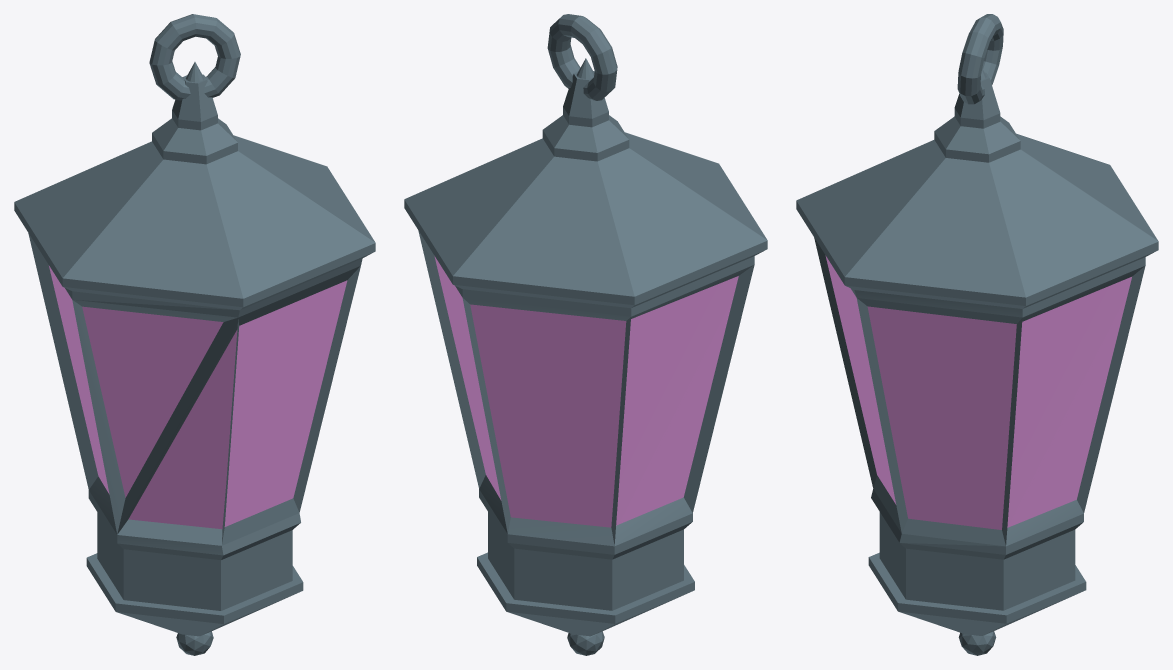
The picture shows the model from 3 angles, left to right: view 1: azimuth 30°, elevation 25°; view 2: azimuth 150°, elevation 25°; view 3: azimuth 270°, elevation 25°; orthographic projection.
Parts seen in each view (by area): view 1: node_MeshObject1001172416-PolyPaper16, node_MeshObject1519892480-PolyGem25; view 2: node_MeshObject1001172416-PolyPaper16, node_MeshObject1519892480-PolyGem25; view 3: node_MeshObject1001172416-PolyPaper16, node_MeshObject1519892480-PolyGem25.
Part boxes in pixels (x1,y1,x2,y2): node_MeshObject1001172416-PolyPaper16: (14, 14, 375, 655); node_MeshObject1519892480-PolyGem25: (49, 266, 347, 529); node_MeshObject1001172416-PolyPaper16: (404, 14, 767, 655); node_MeshObject1519892480-PolyGem25: (434, 256, 738, 527); node_MeshObject1001172416-PolyPaper16: (796, 14, 1158, 655); node_MeshObject1519892480-PolyGem25: (825, 255, 1131, 529).
Bounding box in the file's own units: 0.3867 × 0.751 × 0.3867.
